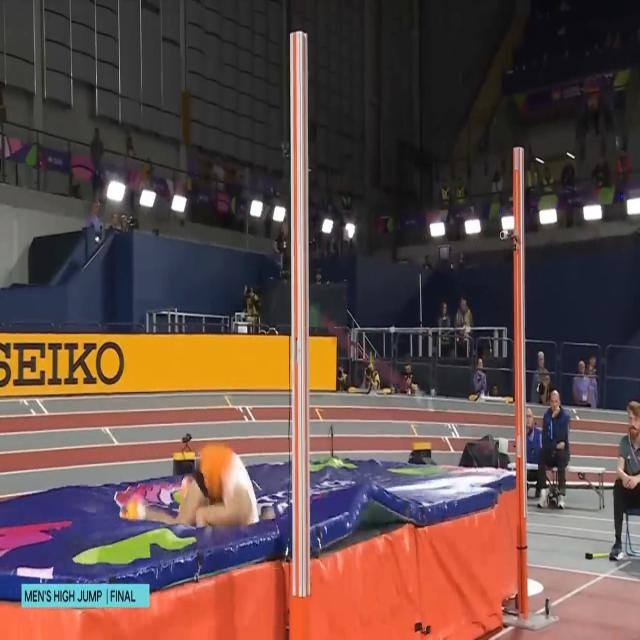land: (118, 441, 259, 532)
